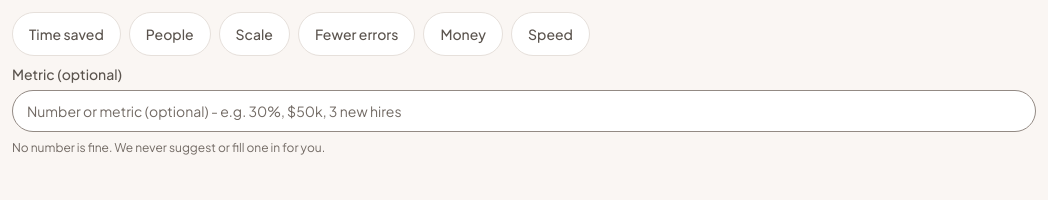
Test: MetricPrompts › keeps a figure the candidate typed and only shows the question
Step 1. Type "3 weeks to 1" into the field → (524, 111), box [12,90,1036,132]
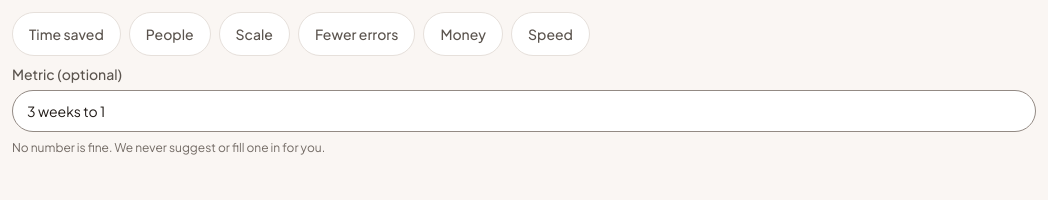
Step 2. Click the button "Speed" → (550, 34), box [511,12,590,56]
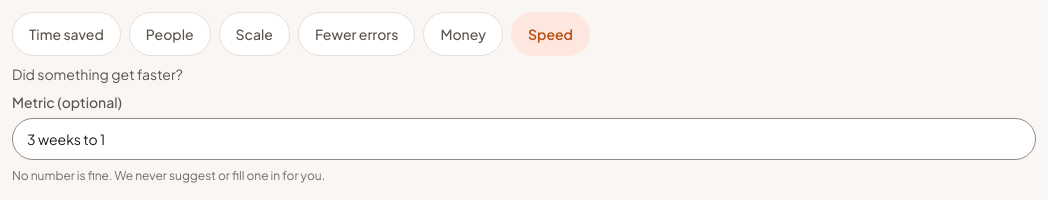
Check: the text "Did something get faster?" is shown, box [12,65,183,83]
